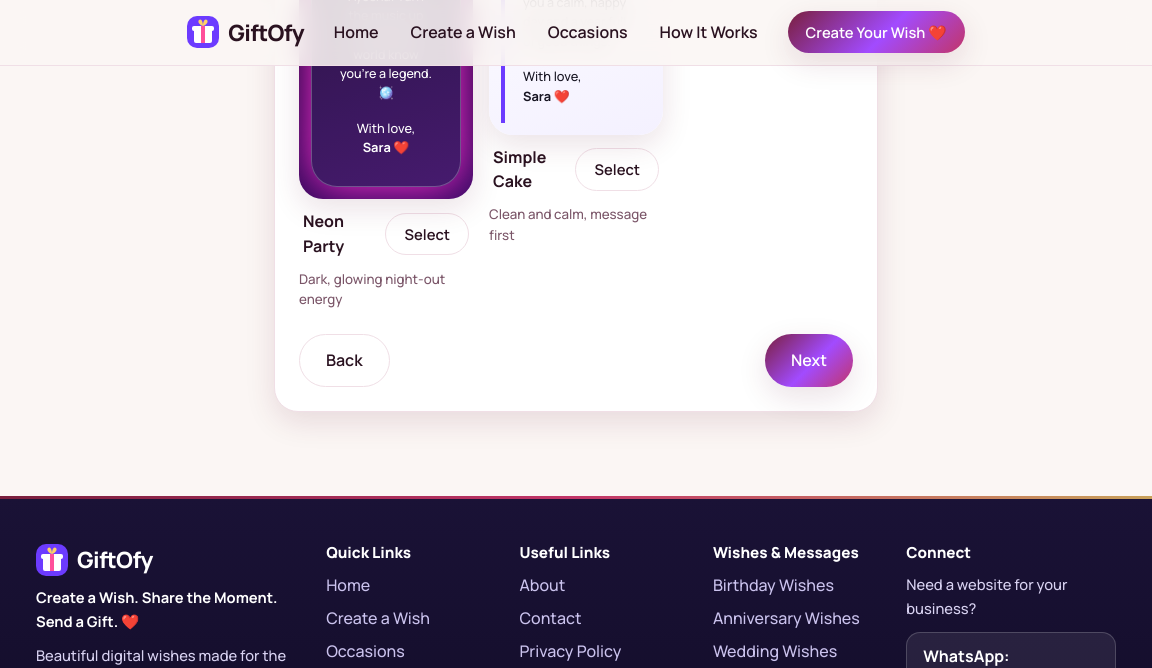
Test: publish path with the real Supabase client › missing env variables: no request is made and the cause is named (dev)
(page scrolled)
Click the button "Next": (809,360) [765,334,853,387]
(page scrolled)
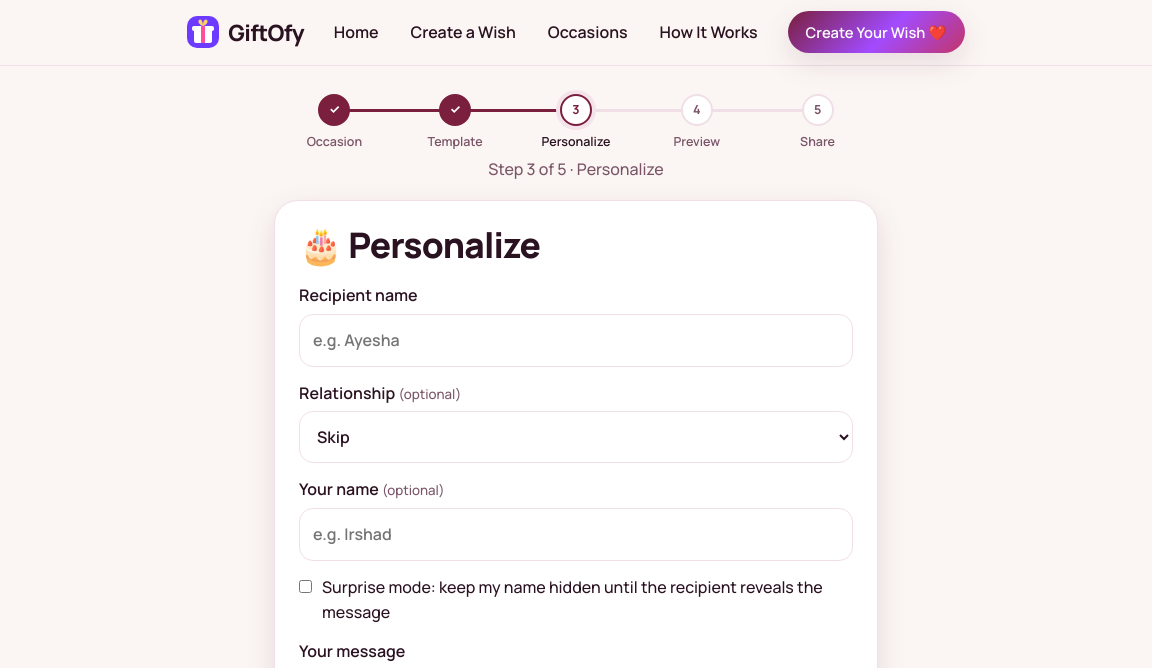
In the field labelled "Recipient name": (576,340) [299,314,853,367], type "Ayesha"
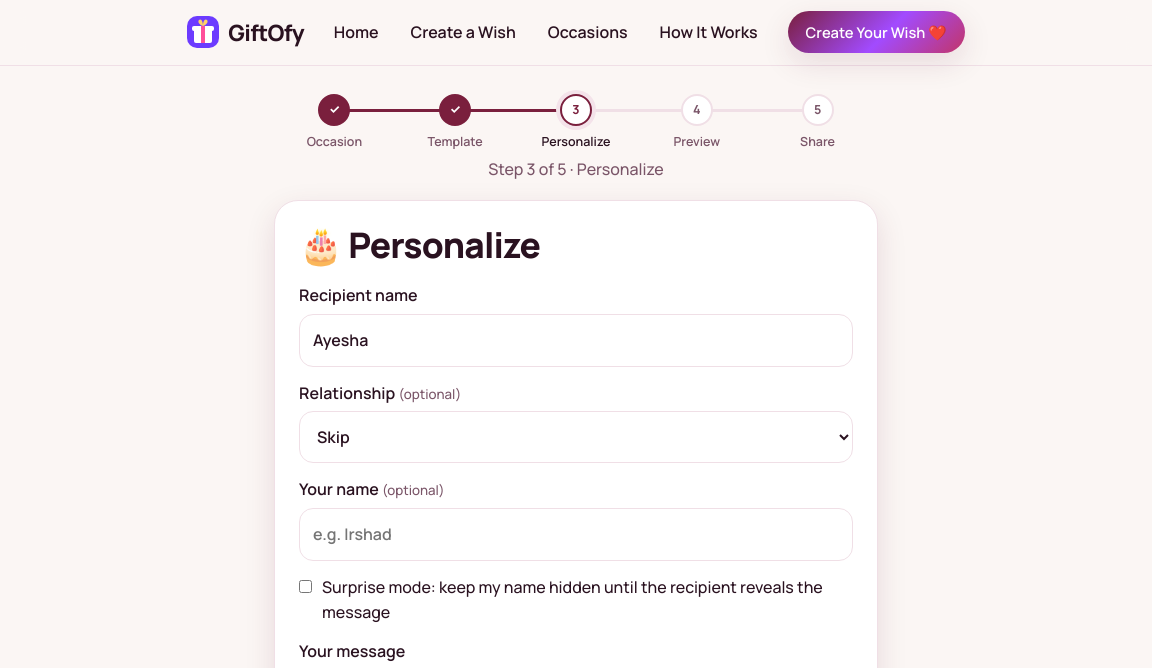
In the field labelled "Your name (optional)": (576,535) [299,508,853,561], type "Irshad"
(page scrolled)
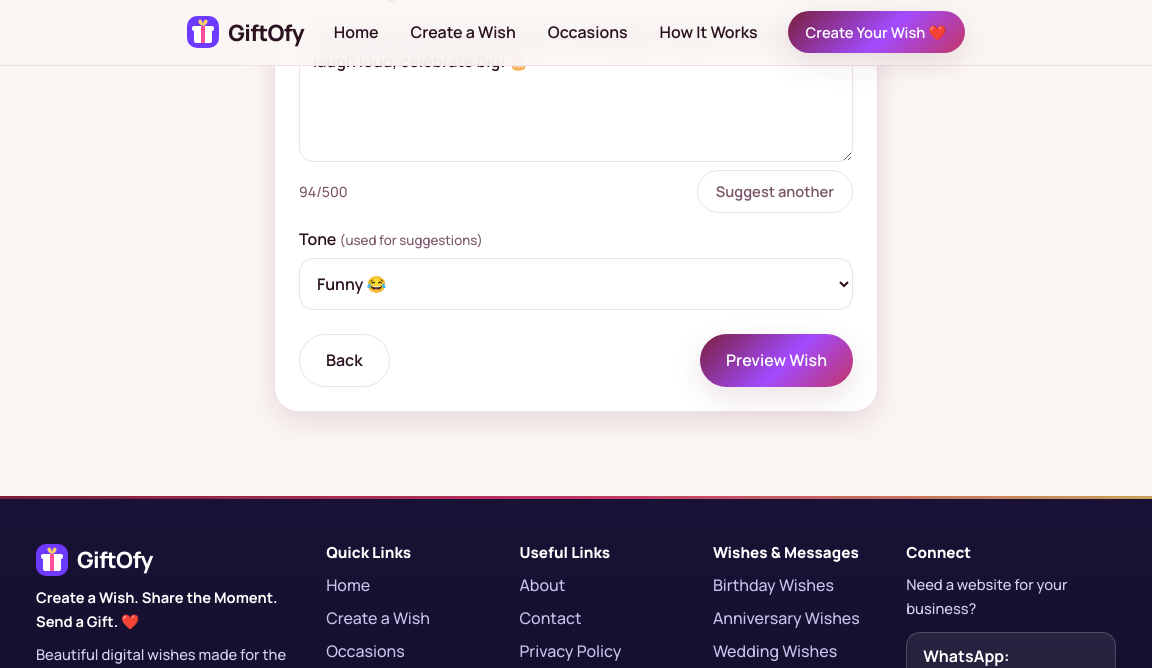
Click the button "Preview Wish": (777,360) [700,334,853,387]
(page scrolled)
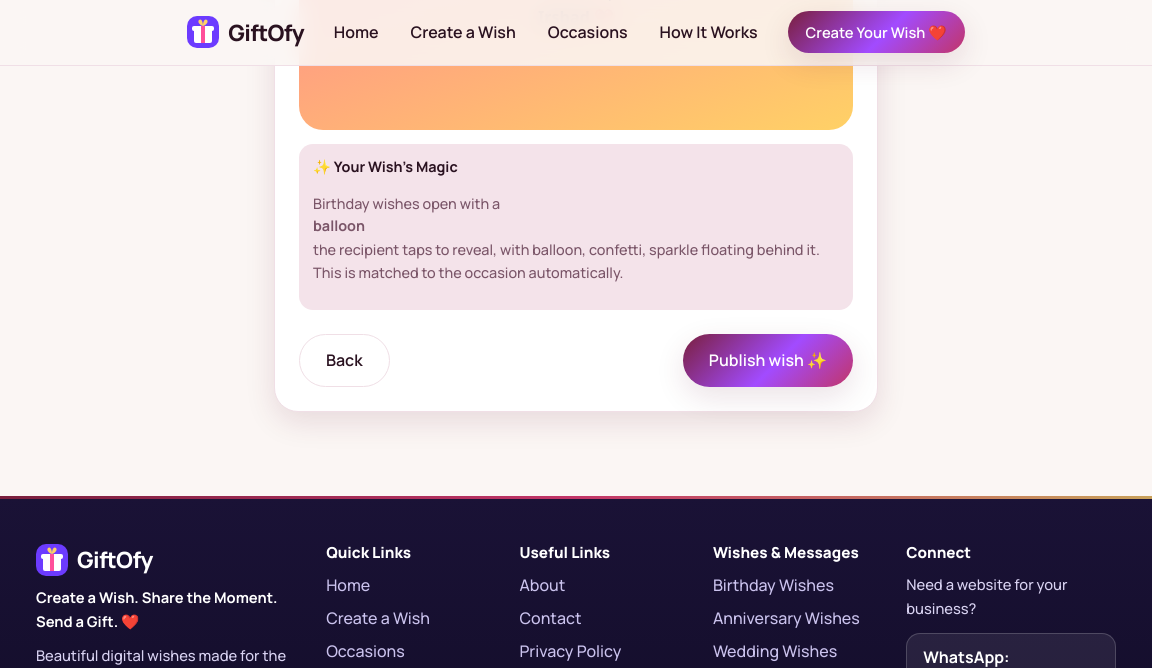
Click the button "Publish wish ✨": (768,361) [683,334,853,387]
(page scrolled)
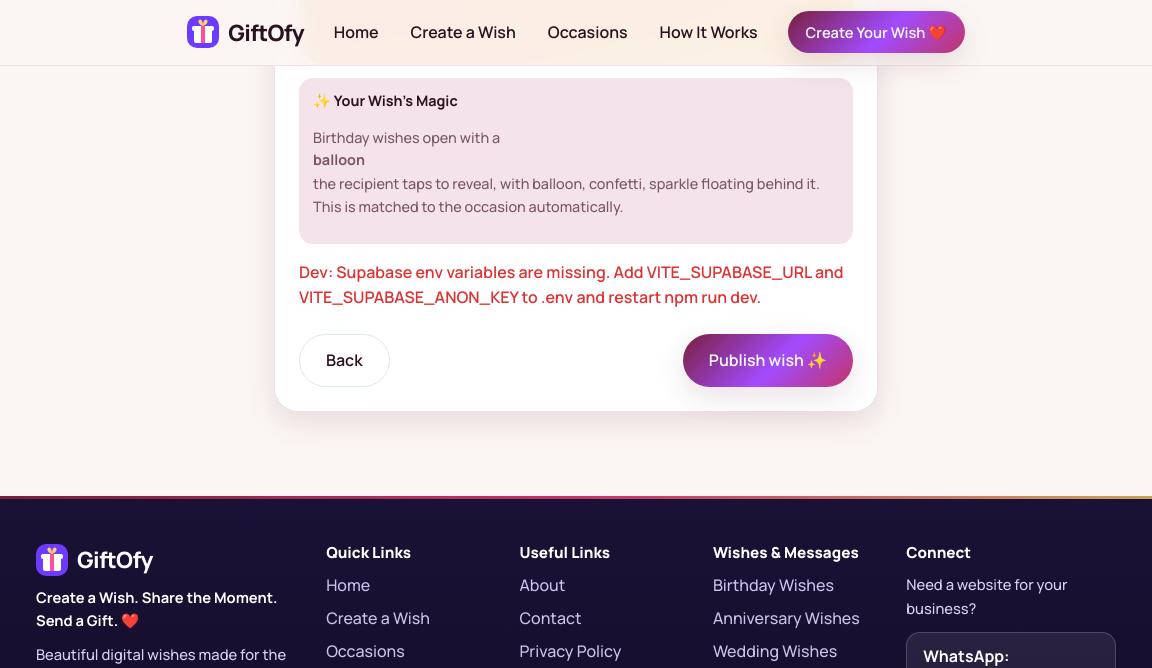
Expected: the text "Supabase env variables are missing" is shown, [299,261,844,308]
